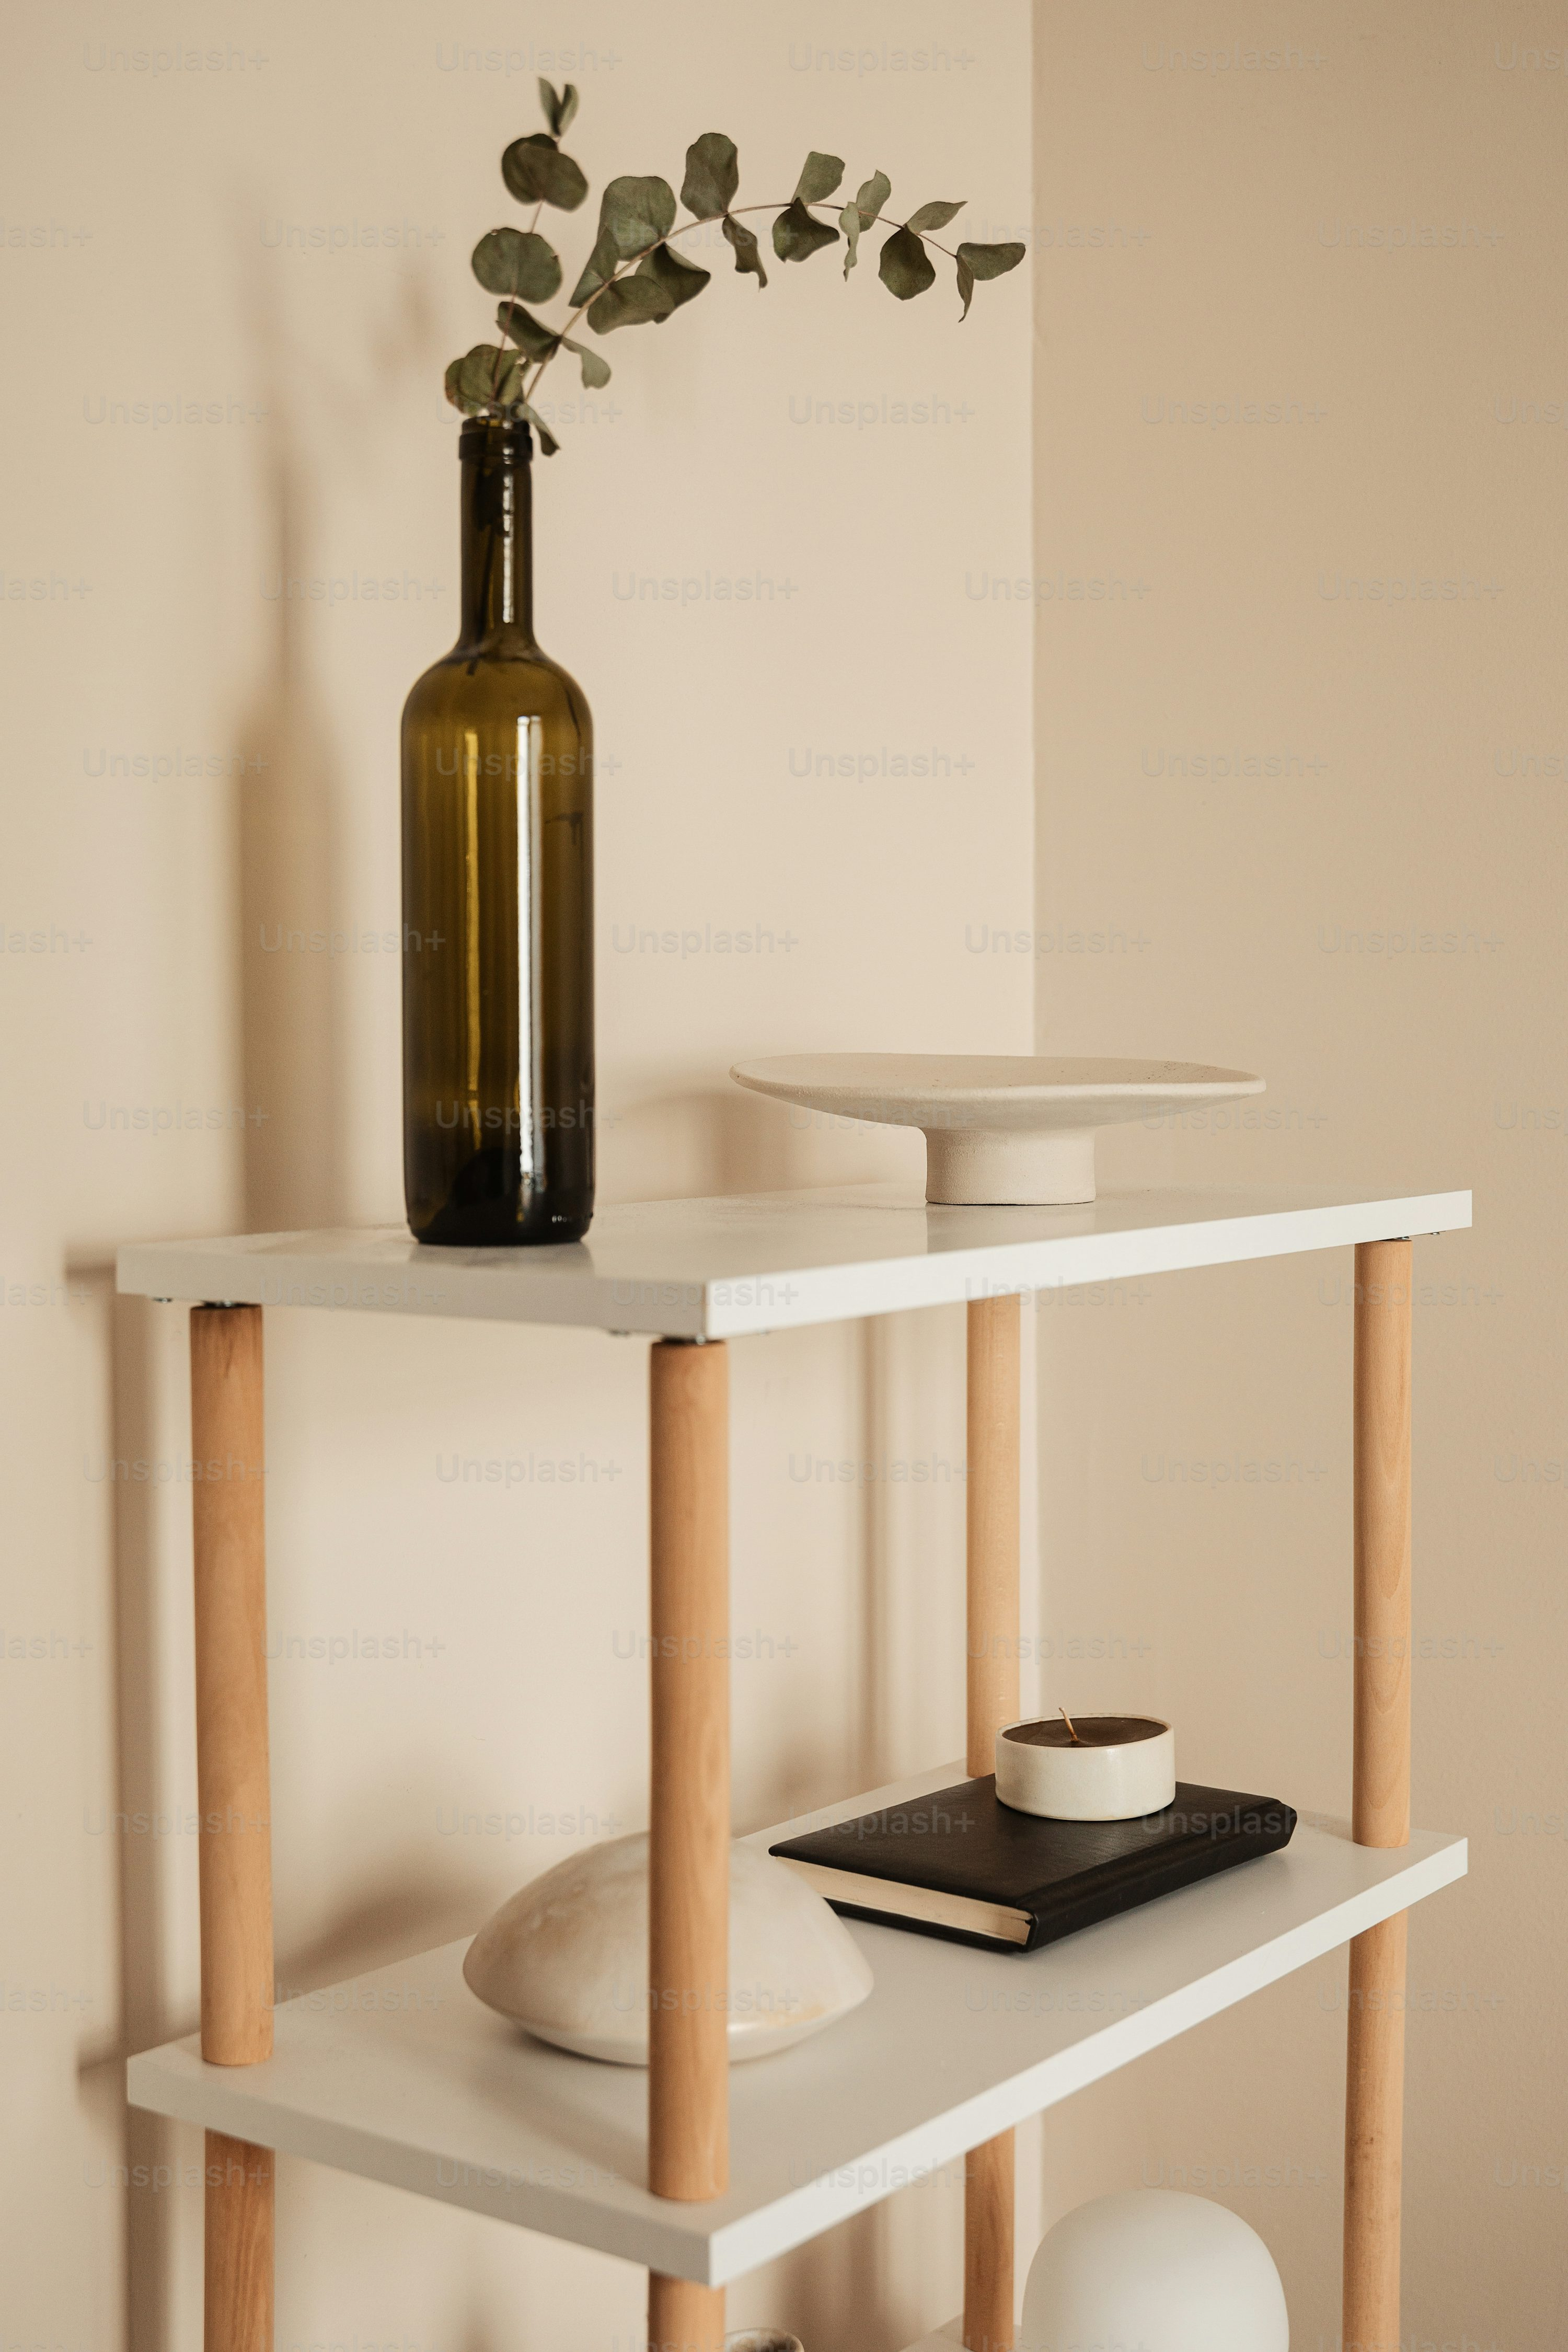glass_bottle: (366, 416, 630, 1258)
